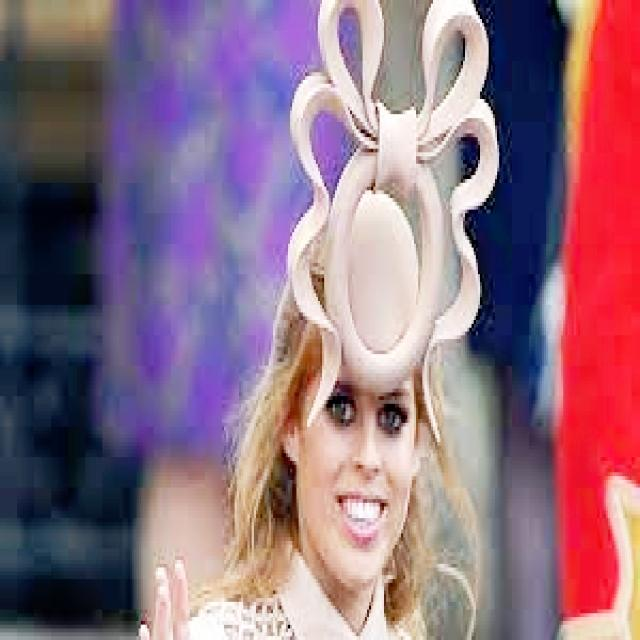TOPI: (271, 0, 499, 438)
